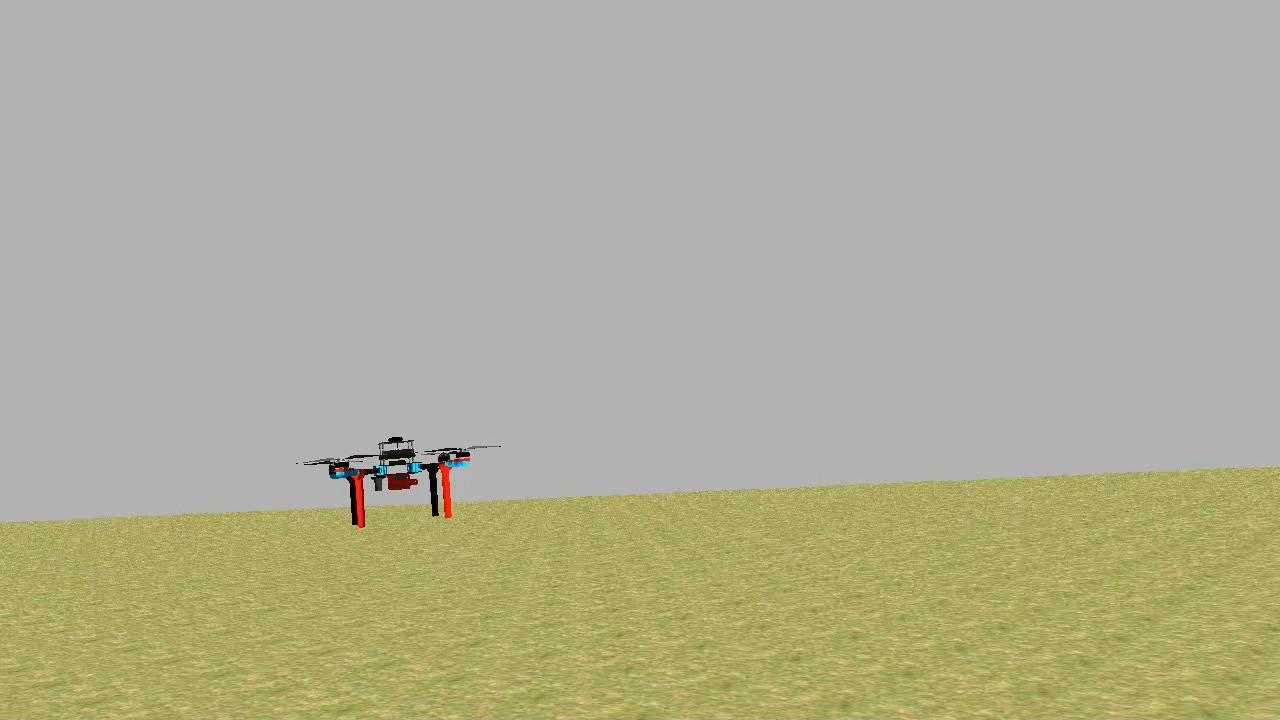UAV: (320, 430, 480, 538)
